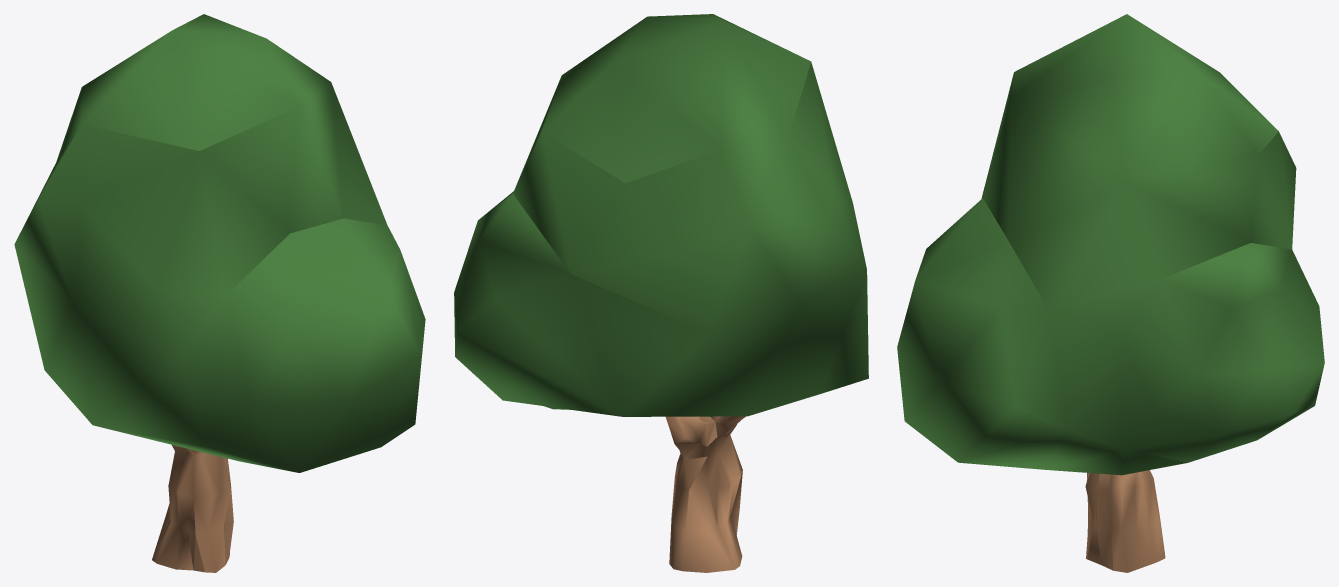
Rendered from oak3.fbx.
The picture shows the model from 3 angles, left to right: view 1: azimuth 30°, elevation 25°; view 2: azimuth 150°, elevation 25°; view 3: azimuth 270°, elevation 25°; orthographic projection.
Visible parts, largest first — view 1: Canopy, Trunk; view 2: Canopy, Trunk; view 3: Canopy, Trunk.
Part boxes in pixels (bbox=[...]): Canopy: bbox=[14, 14, 425, 472]; Trunk: bbox=[152, 445, 233, 572]; Canopy: bbox=[454, 14, 868, 416]; Trunk: bbox=[665, 416, 745, 572]; Canopy: bbox=[897, 14, 1324, 475]; Trunk: bbox=[1085, 470, 1165, 572].
Bounding box in the file's own units: 3.07 × 4.85 × 3.52.
